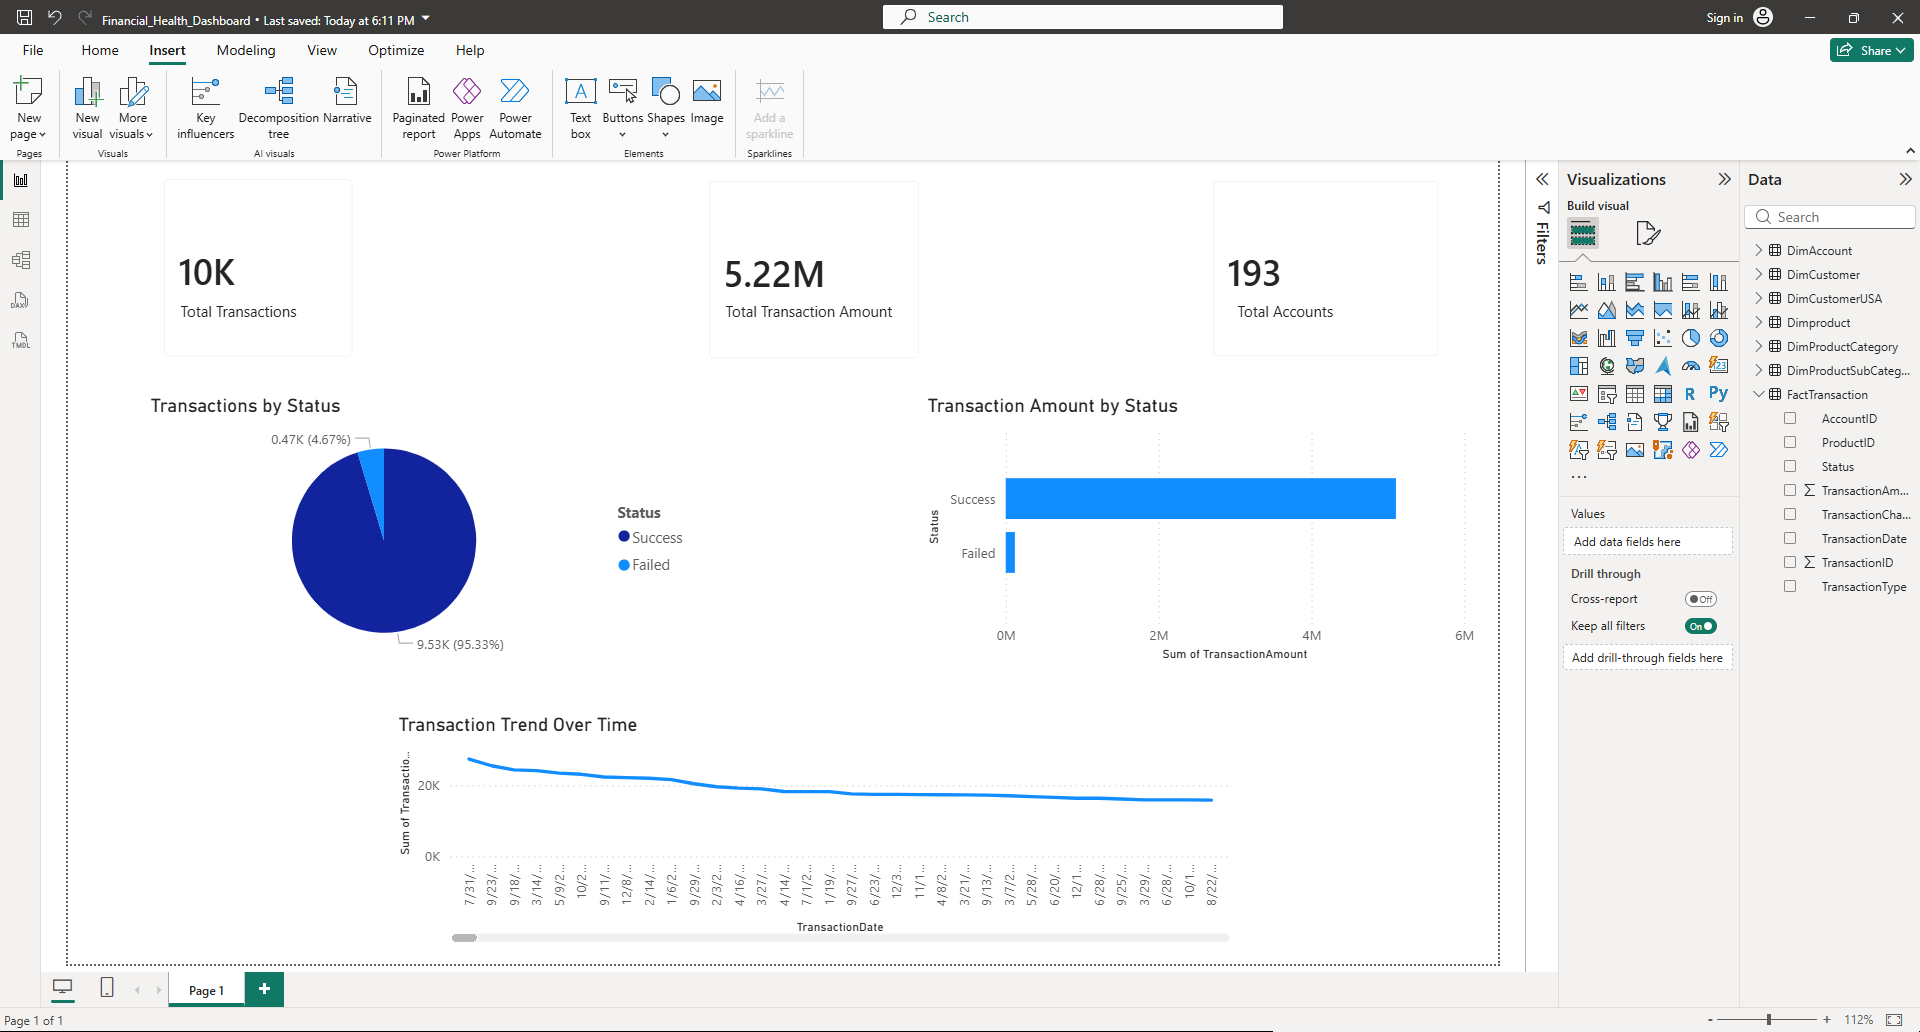

The dashboard page shown, as its layout file describes it:
{"tool":"powerbi","page":{"name":"Page 1","canvas":[1280,720],"ordinal":0},"visuals":[{"type":"cardVisual","fields":{"Data":["CountNonNull(FactTransaction.TransactionID)"]},"box":[69,0,203.3,193.4],"z":0},{"type":"textbox","box":[95.8,121.8,135.2,43],"z":1},{"type":"cardVisual","fields":{"Data":["Sum(FactTransaction.TransactionAmount)"]},"box":[557,1.8,222.1,193.4],"z":2},{"type":"textbox","box":[583.9,121.8,167.5,42.1],"z":3},{"type":"cardVisual","fields":{"Data":["Count(FactTransaction.AccountID)"]},"box":[1008.4,1.8,236.4,191.6],"z":4},{"type":"textbox","box":[1042.4,121.8,168.4,30.4],"z":5},{"type":"pieChart","title":"Transactions by Status","fields":{"Category":["FactTransaction.Status"],"Y":["CountNonNull(FactTransaction.TransactionID)"]},"box":[69,209.6,496.1,243.6],"z":6},{"type":"clusteredBarChart","title":"Transaction Amount by Status","fields":{"Category":["FactTransaction.Status"],"Y":["Sum(FactTransaction.TransactionAmount)"]},"box":[764.8,209.6,499.7,243.6],"z":7},{"type":"lineChart","title":"Transaction Trend Over Time","fields":{"Category":["FactTransaction.TransactionDate"],"Y":["Sum(FactTransaction.TransactionAmount)"]},"box":[291,495.2,754,210.4],"z":8}]}

Visuals, with their boxes on the page's 1280x720 design canvas (x1, y1, x2, y2). These are canvas units, not pixel positions in the 1920x1032 screenshot, which may show the page scaled, cropped or inside an application window:
cardVisual - CountNonNull(FactTransaction.TransactionID): Rect(69, 0, 272, 193)
textbox: Rect(96, 122, 231, 165)
cardVisual - Sum(FactTransaction.TransactionAmount): Rect(557, 2, 779, 195)
textbox: Rect(584, 122, 751, 164)
cardVisual - Count(FactTransaction.AccountID): Rect(1008, 2, 1245, 193)
textbox: Rect(1042, 122, 1211, 152)
"Transactions by Status" pieChart: Rect(69, 210, 565, 453)
"Transaction Amount by Status" clusteredBarChart: Rect(765, 210, 1264, 453)
"Transaction Trend Over Time" lineChart: Rect(291, 495, 1045, 706)
